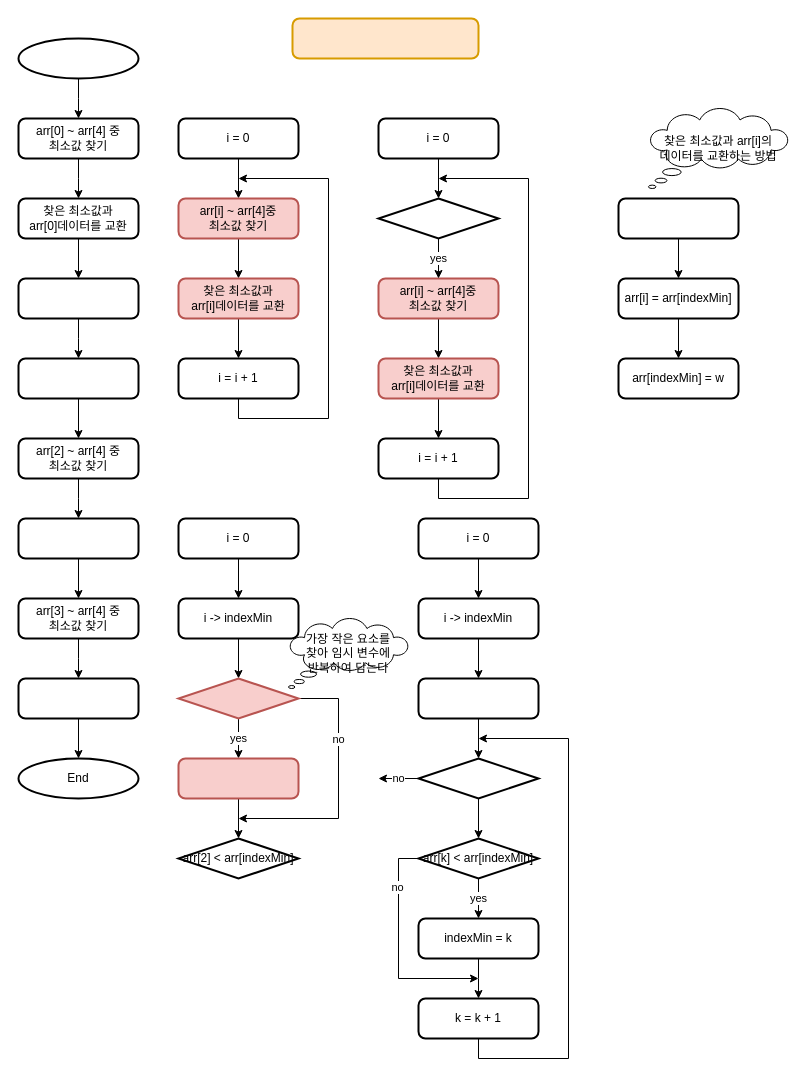
Image size: 806x1084. Some labels were removed from this diagram. Here are the shapes that lost their labels. From the top down, the centre of each, then its label:
[78,58]: Start
[385,38]: 정렬 - 단순선택법
[438,218]: i < len(arr)
[678,218]: w = arr[i]
[78,298]: arr[1] ~ arr[4] 중 최소값 찾기
[78,378]: 찾은 최소값과 arr[1]데이터를 교환
[78,538]: 찾은 최소값과 arr[2]데이터를 교환
[78,698]: 찾은 최소값과 arr[3]데이터를 교환
[238,698]: arr[1] < arr[indexMin]
[478,698]: k = 1
[238,778]: indexMin = 1
[478,778]: k < 5
